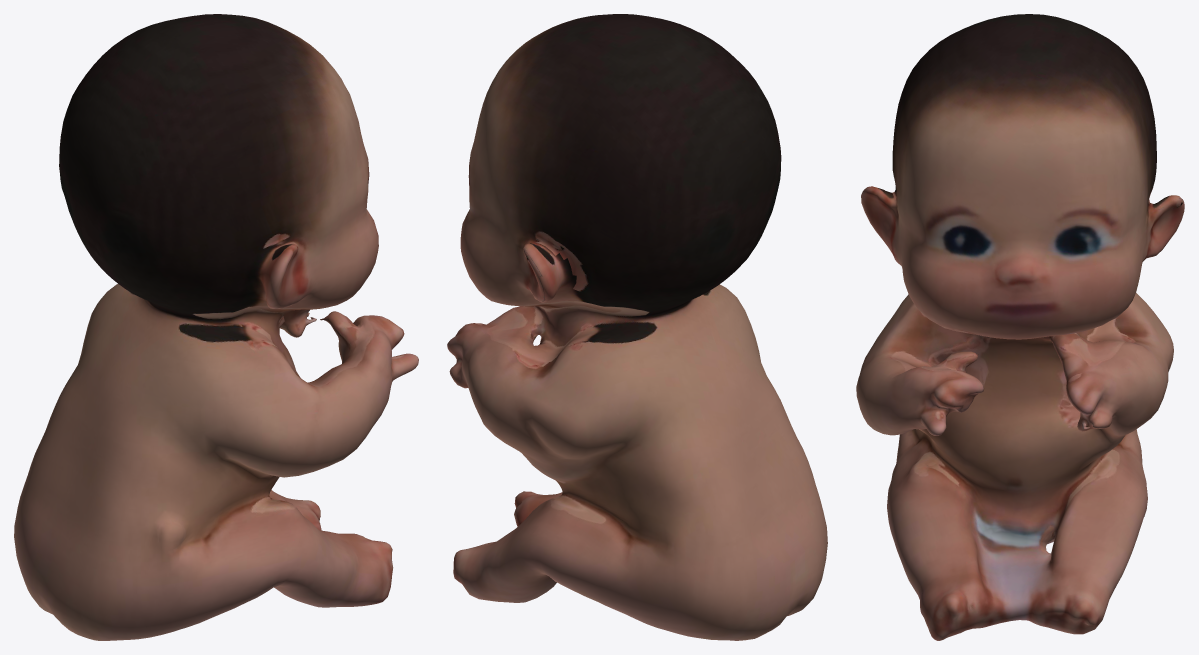
File: Bebe.fbx
3 views of the same model, side by side, from view 1: azimuth 30°, elevation 25°; view 2: azimuth 150°, elevation 25°; view 3: azimuth 270°, elevation 25° (orthographic). The views are drawn at different scales.
Visible parts, largest first — view 1: mesh; view 2: mesh; view 3: mesh.
Part boxes in pixels (left/top/right/bottom): mesh: left=14, top=14, right=418, bottom=640; mesh: left=447, top=14, right=827, bottom=640; mesh: left=856, top=14, right=1184, bottom=640.
Size of the model in its own units: 61.2 by 99.96 by 53.63.
